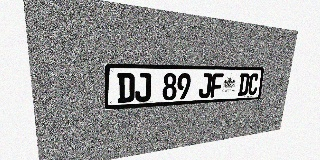8: (162, 73, 178, 100)
9: (176, 73, 191, 100)
C: (247, 73, 259, 95)
D: (117, 73, 135, 103), (238, 73, 250, 96)
F: (210, 73, 224, 98)
J: (135, 73, 151, 102), (198, 73, 212, 98)
